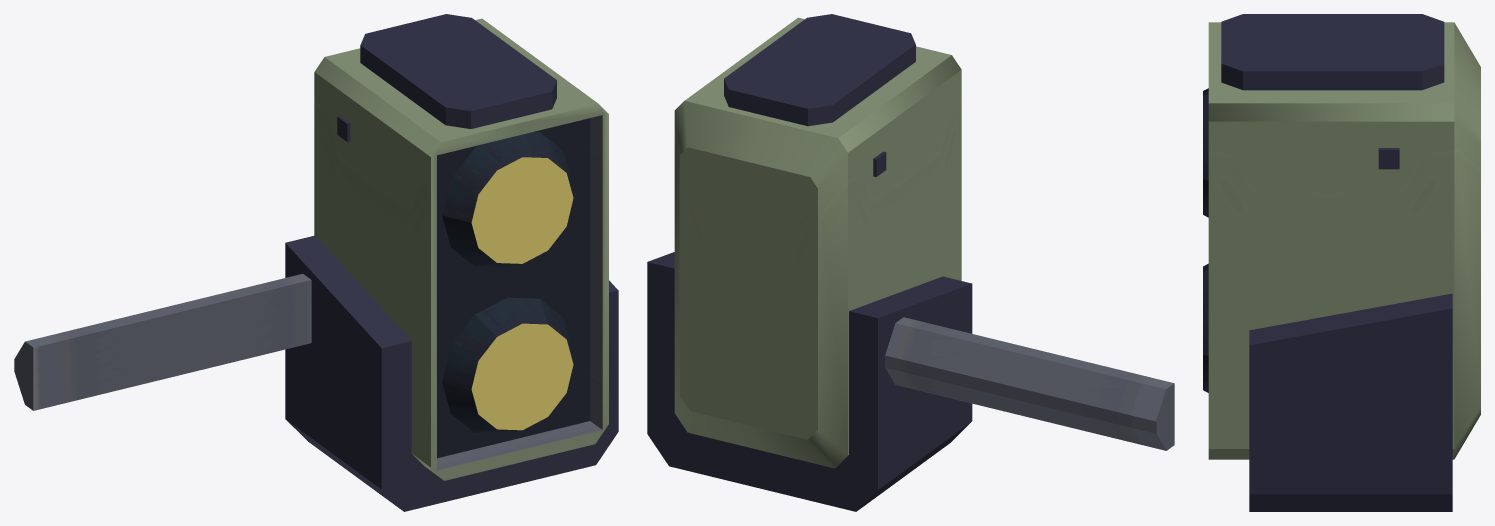
File: ArmsRaceMissile.fbx
3 views of the same model, side by side, from view 1: azimuth 30°, elevation 25°; view 2: azimuth 150°, elevation 25°; view 3: azimuth 270°, elevation 25° (orthographic). The views are drawn at different scales.
Parts seen in each view (by area): view 1: Cube; view 2: Cube; view 3: Cube.
Part boxes in pixels (left/top/right/bottom): Cube: left=14, top=14, right=618, bottom=511; Cube: left=647, top=14, right=1174, bottom=511; Cube: left=1203, top=14, right=1480, bottom=511.
Bounding box in the file's own units: 510 × 376 × 226.
